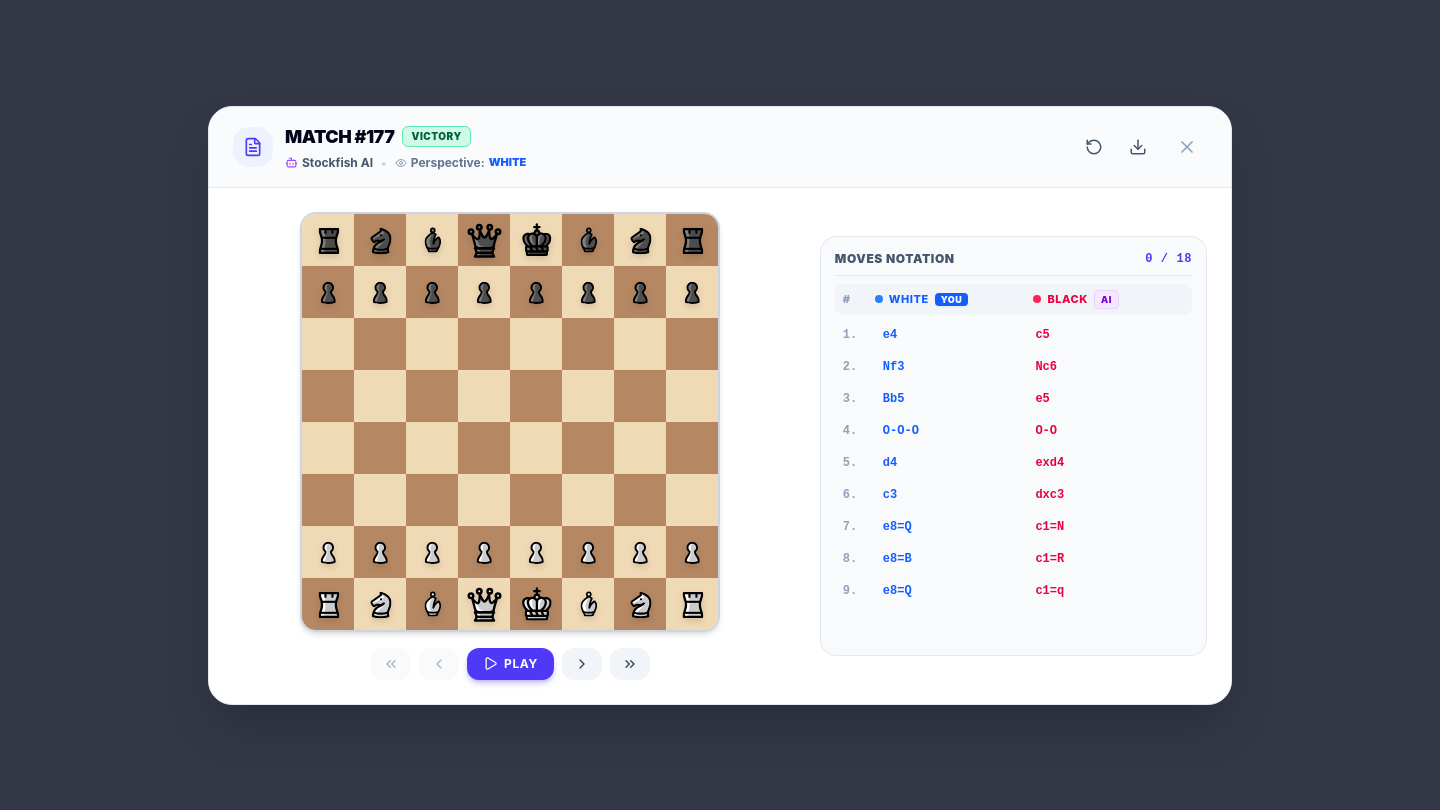
Test: MatchReplayModal Component › navigates through steps using First, Previous, Next and Last move buttons
Expected: the text "0 / 18" is shown, [1145, 250, 1192, 266]
Click the button titled "Next Move" at (582, 664), box [562, 648, 602, 680]
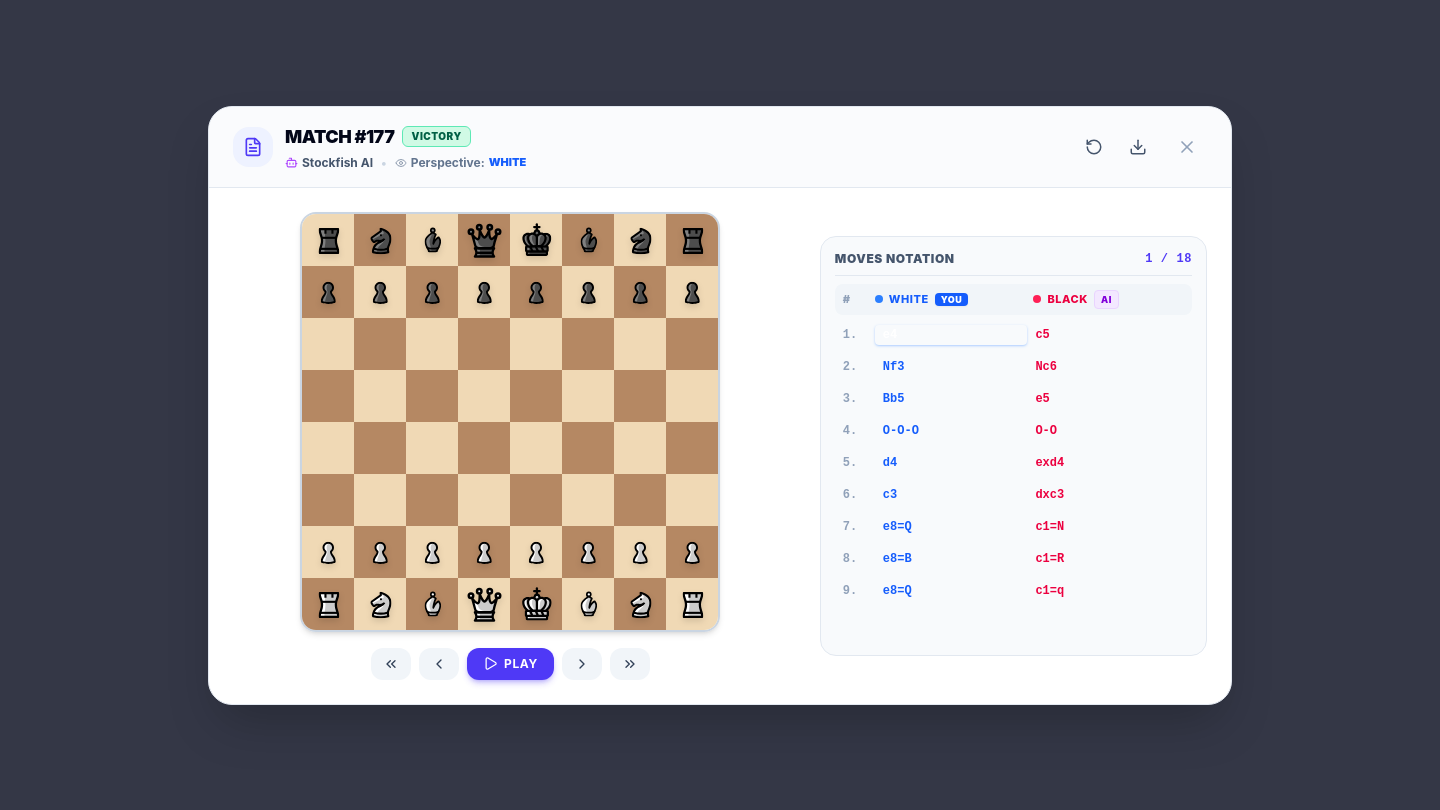
Now the text "1 / 18" is shown, box [1145, 250, 1192, 266]
Click the button titled "Previous Move" at (439, 664), box [419, 648, 459, 680]
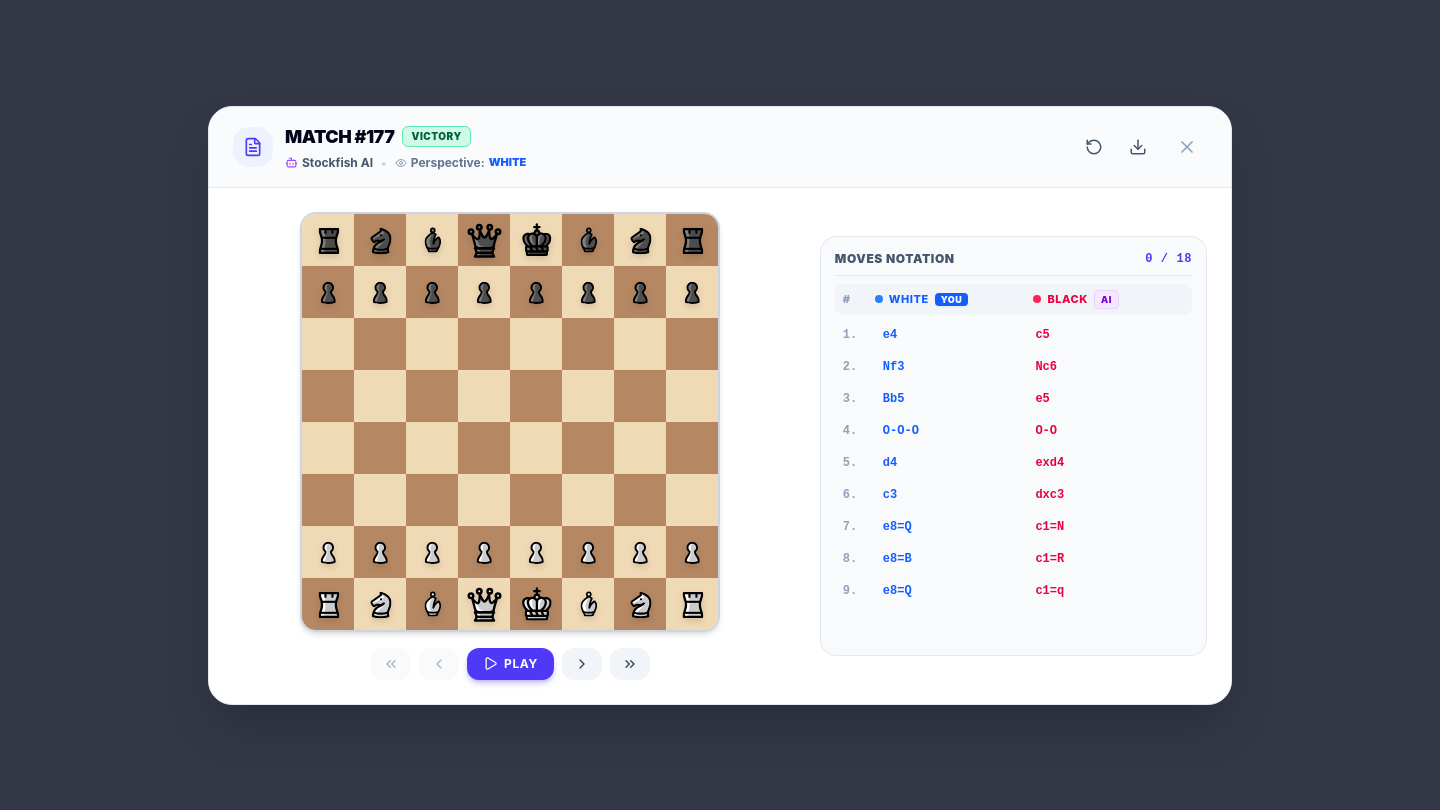
Now the text "0 / 18" is shown, box [1145, 250, 1192, 266]
Click the button titled "Last Move" at (630, 664), box [610, 648, 650, 680]
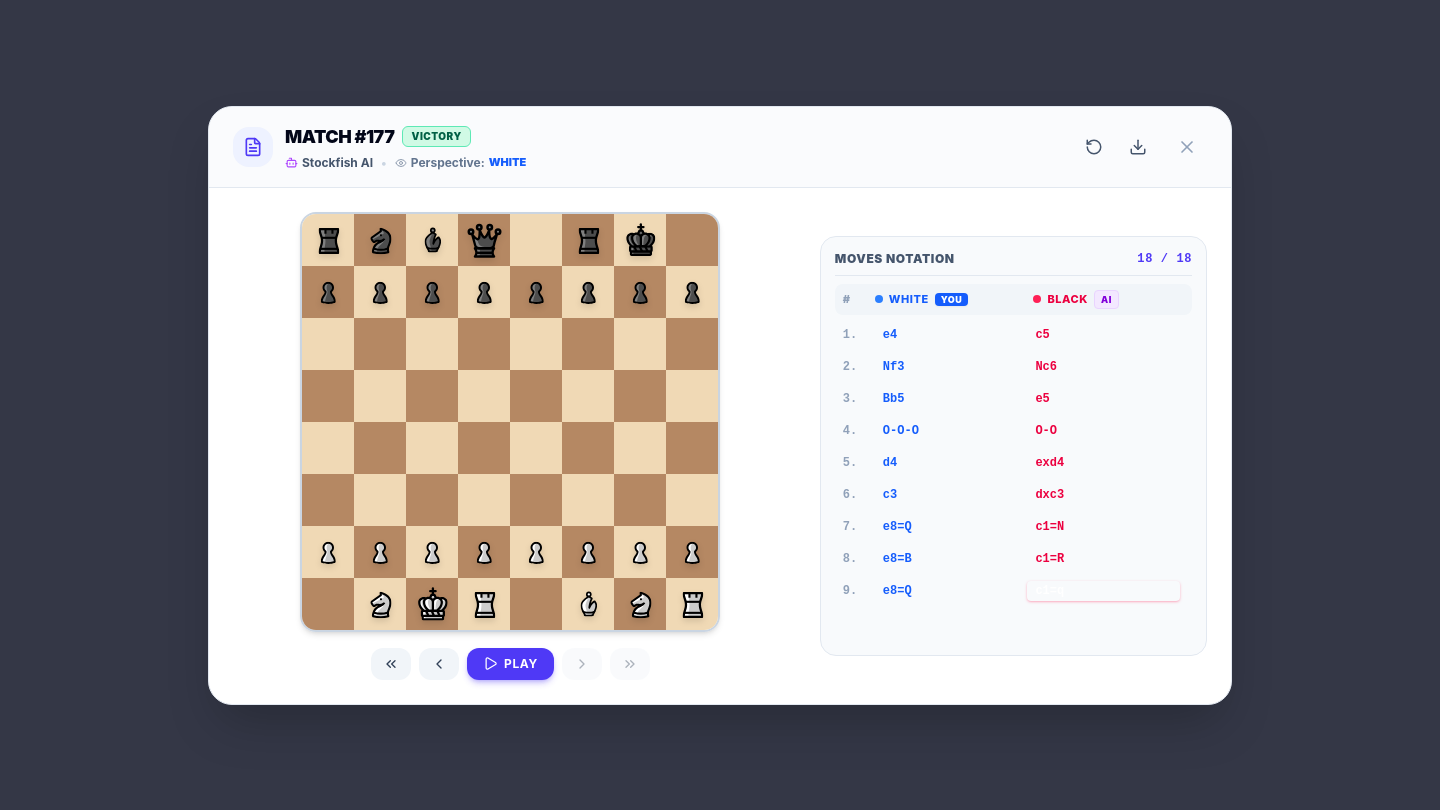
Now the text "0 / 18" is gone
Click the button titled "First Move" at (391, 664), box [371, 648, 411, 680]
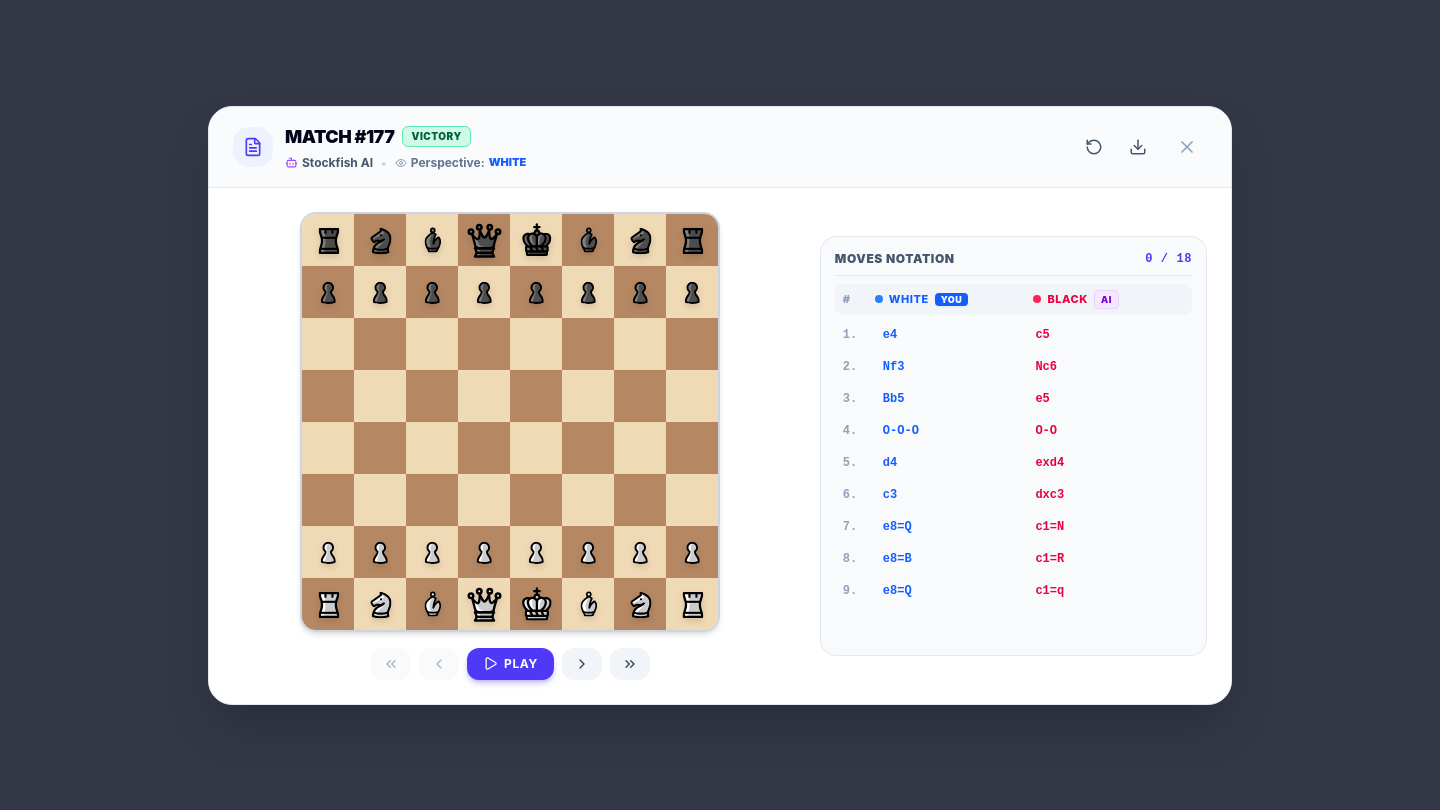
Now the text "0 / 18" is shown, box [1145, 250, 1192, 266]
